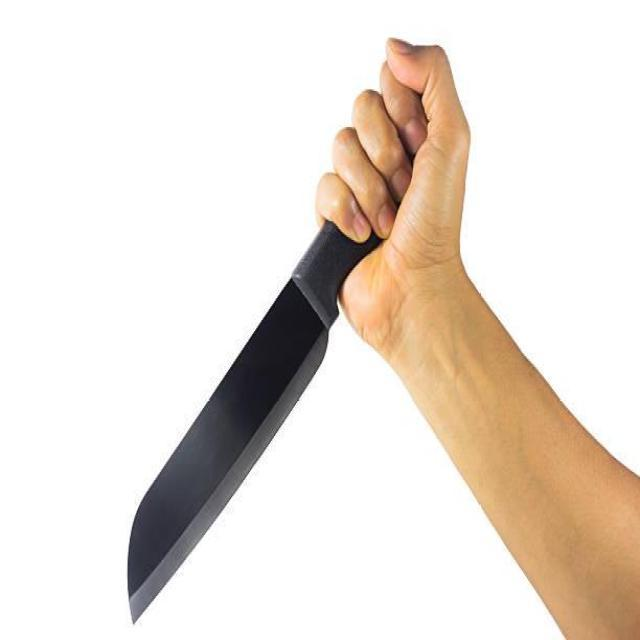faca: (105, 17, 462, 620)
